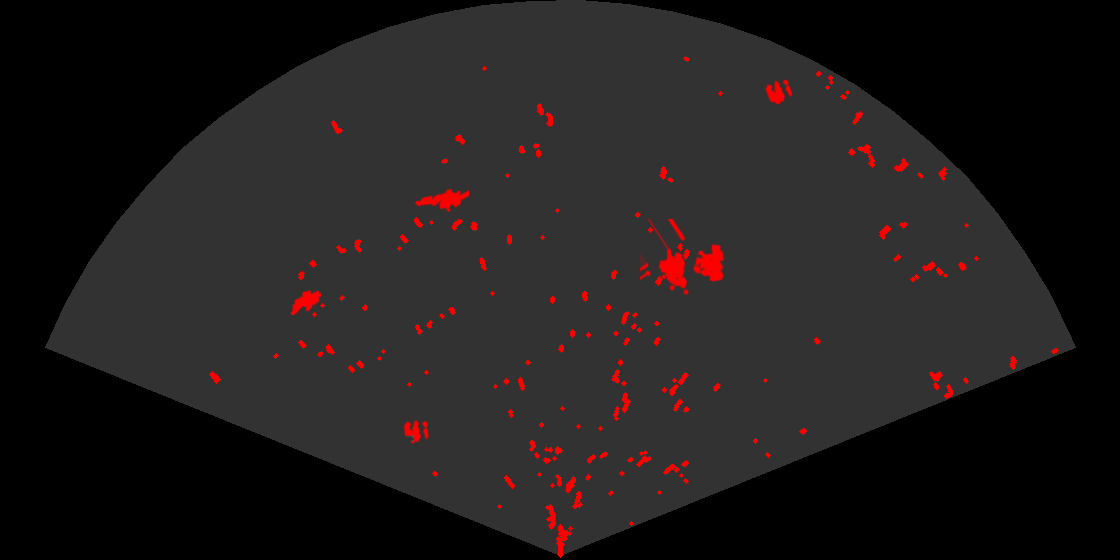AUV: (289, 289, 323, 317)
ball: (764, 78, 794, 106), (402, 418, 430, 445)
cage: (640, 219, 726, 297)
frogman: (413, 187, 469, 214)
